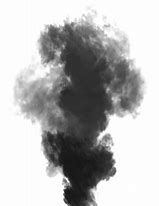smoke: (17, 14, 144, 206)
